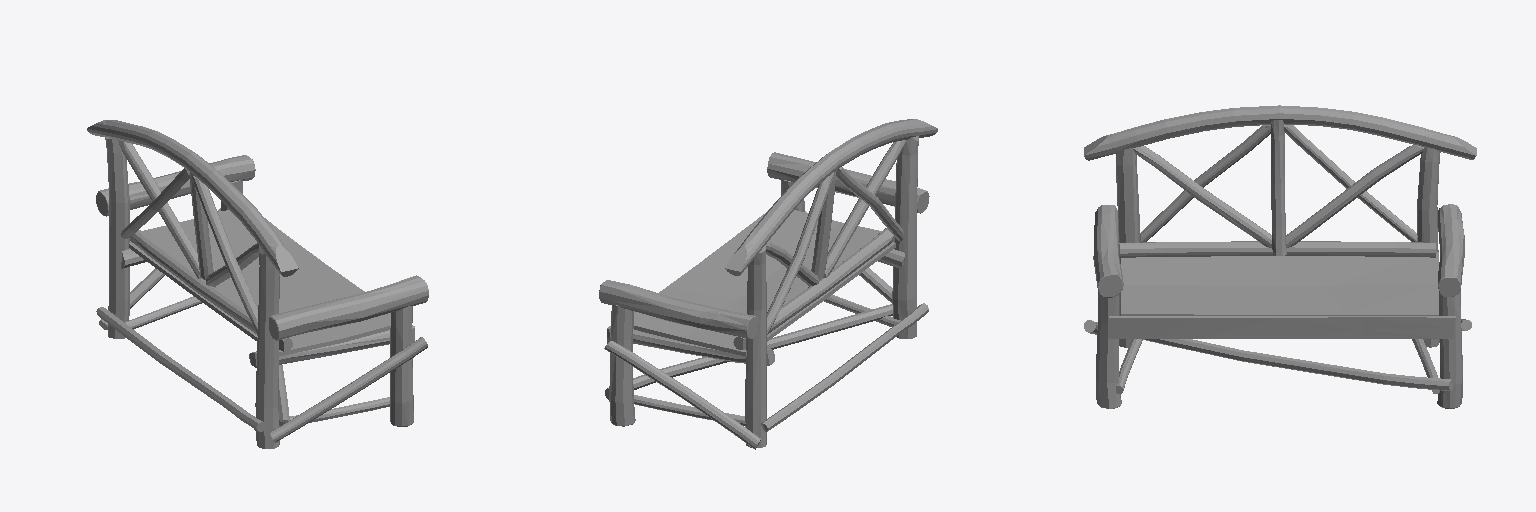
The model's file is bench.obj.
3 renders of one model, left to right at view 1: azimuth 30°, elevation 25°; view 2: azimuth 150°, elevation 25°; view 3: azimuth 270°, elevation 25°, orthographic.
Visible parts, largest first — view 1: Park_bench_natural; view 2: Park_bench_natural; view 3: Park_bench_natural.
Part boxes in pixels (bbox=[...]): Park_bench_natural: bbox=[87, 120, 428, 448]; Park_bench_natural: bbox=[599, 119, 937, 449]; Park_bench_natural: bbox=[1084, 105, 1476, 408].
Size of the model in its own units: 0.5065 by 0.6979 by 1.05.